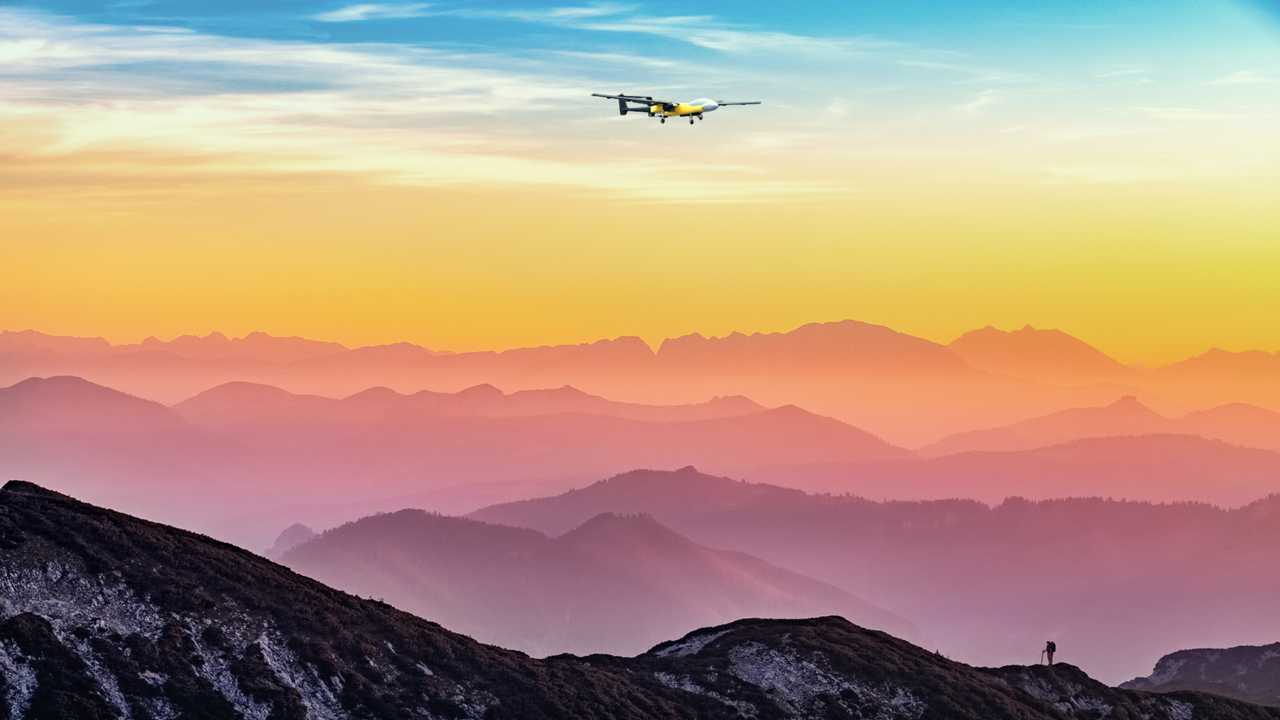military drone: (590, 92, 761, 124)
